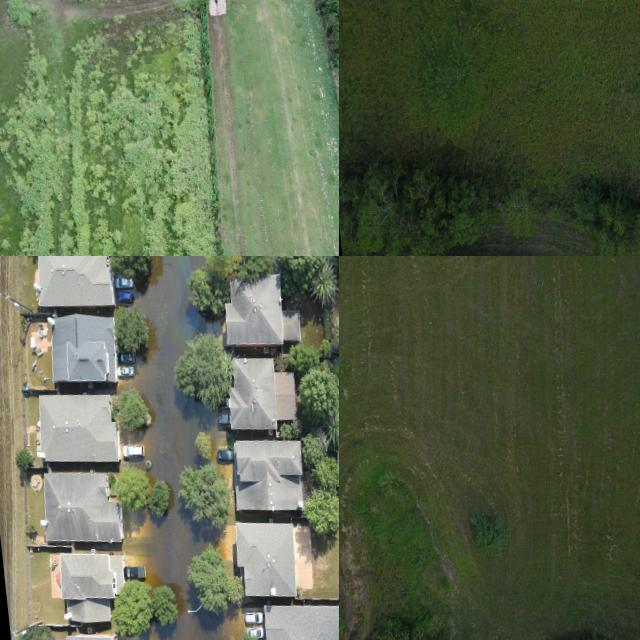fire: (119, 256, 230, 607)
